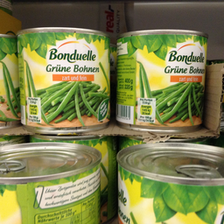beans: (15, 28, 111, 128), (118, 29, 211, 130)
